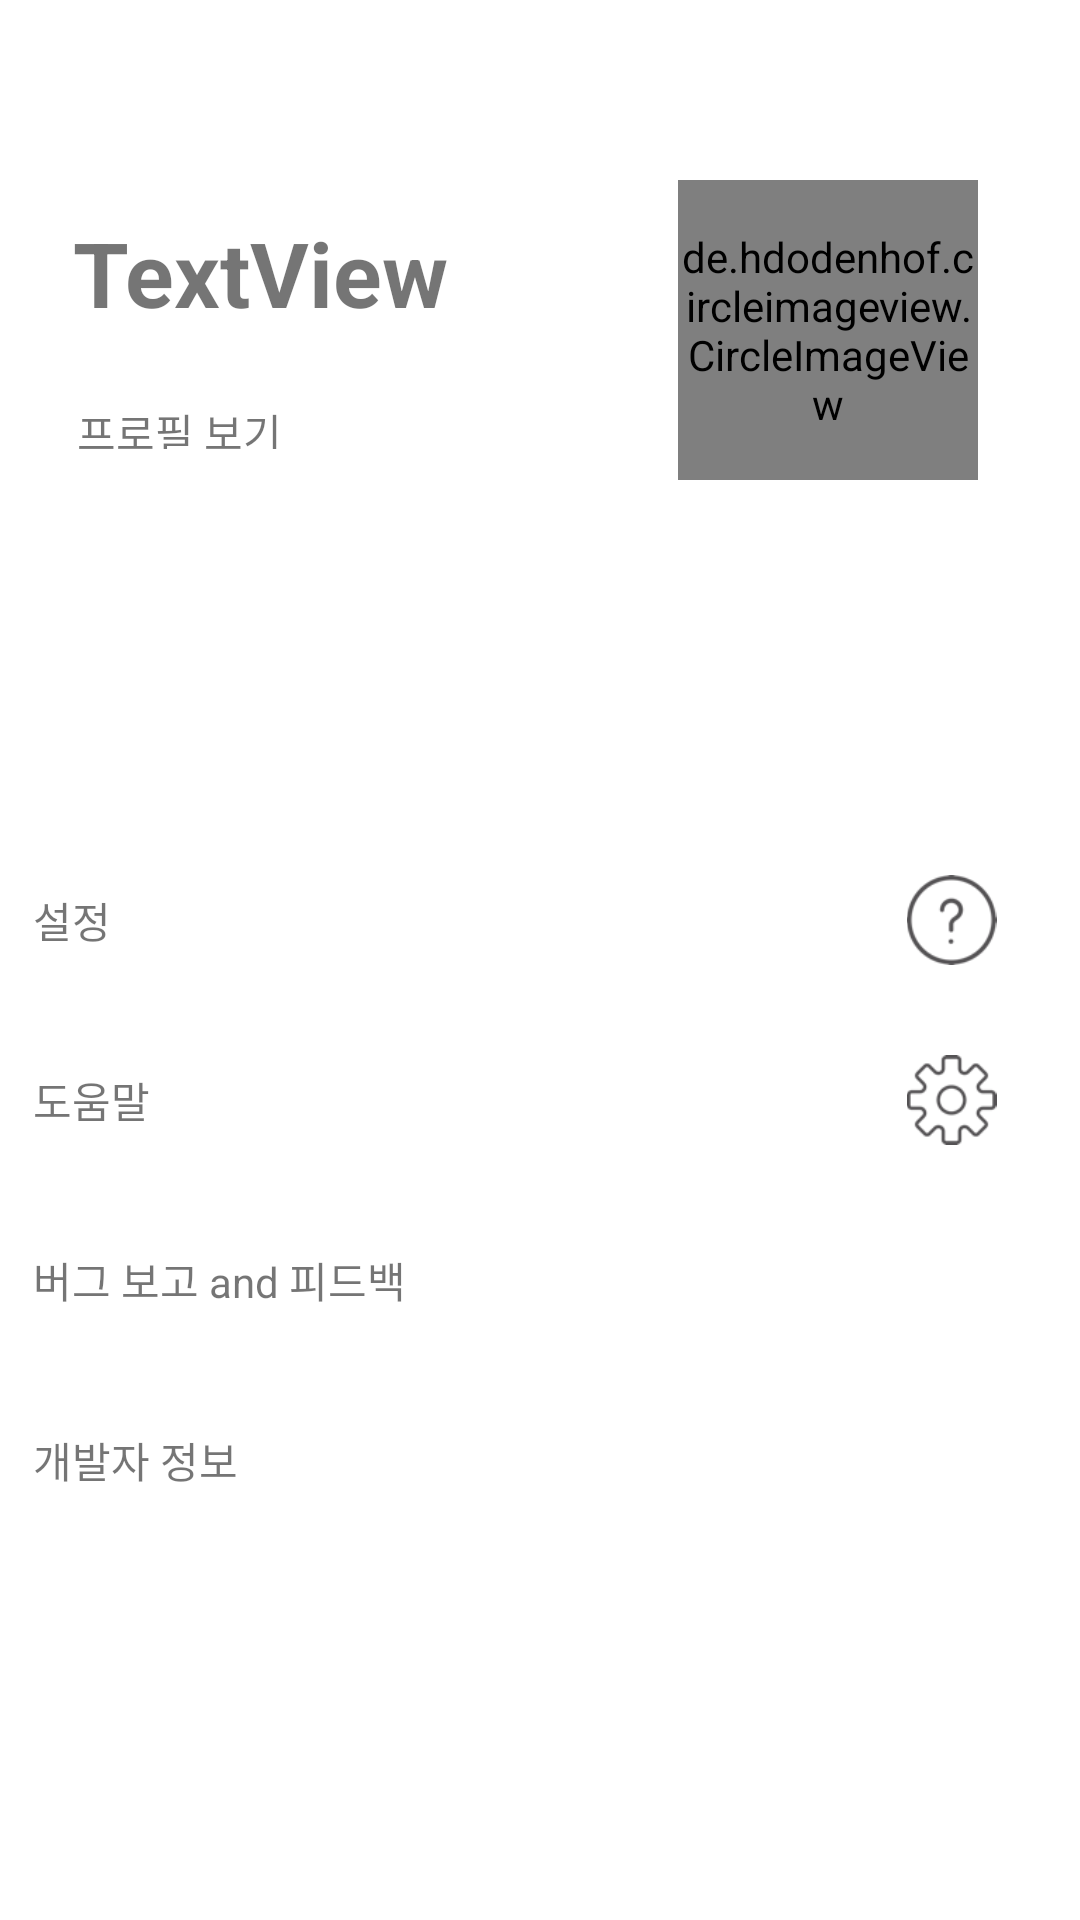

Where to tap for icons on this 1080px x 1920px app screen, as point (x, y):
question: point (952, 920)
settings: point (952, 1100)
